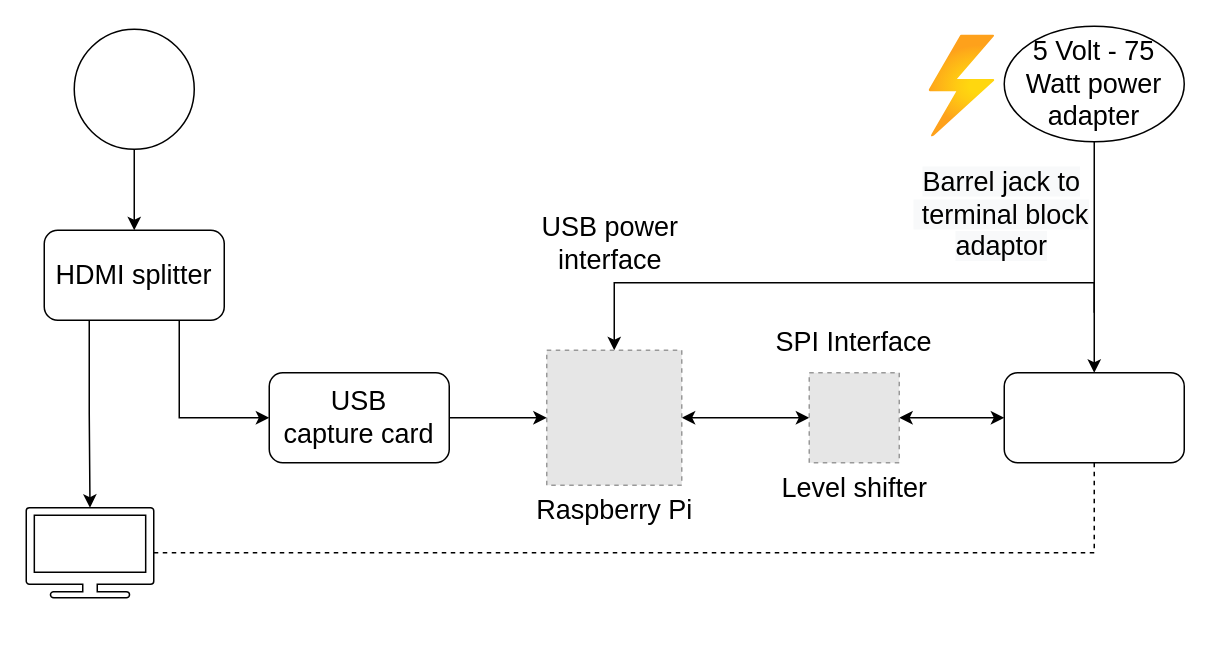
Image size: 1211x668. Some labels were removed from this diagram. Grey dashed boxes stand in for pictures. The shapes that lost their labels are listed below. From the top down, each one's centre as x and y in pixels, then its label:
(x=133, y=88): HDMI source
(x=1093, y=417): LED strip
(x=89, y=552): TV
